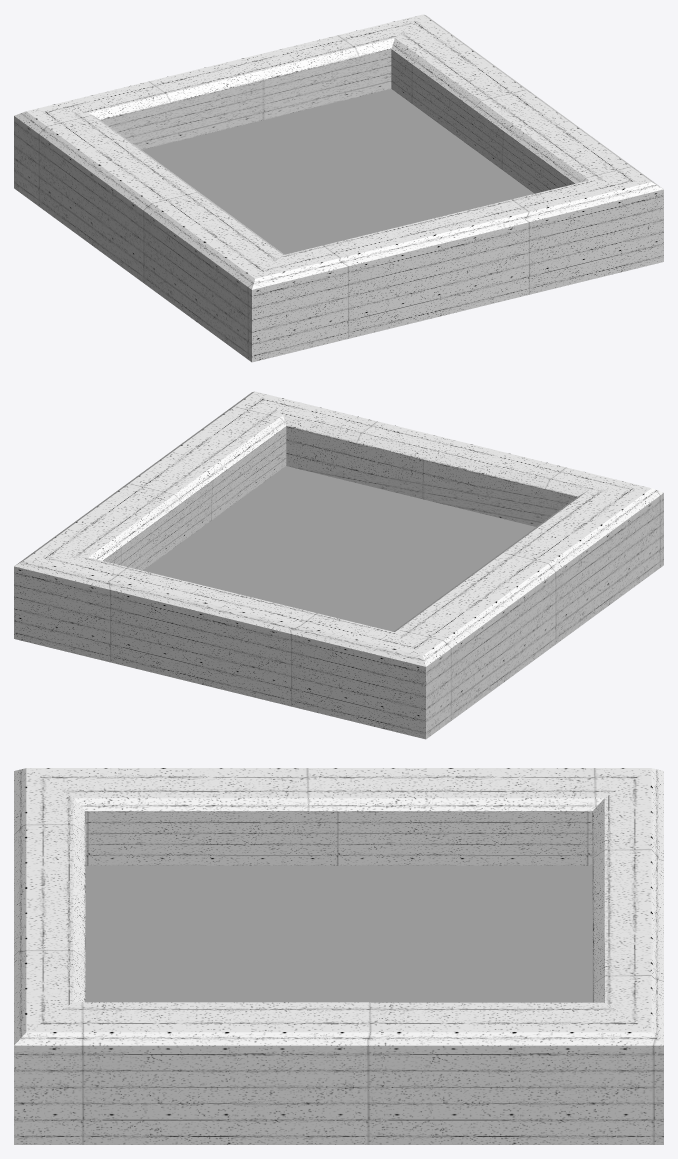
File: Square planter.fbx
The picture shows the model from 3 angles, top to bottom: view 1: azimuth 30°, elevation 25°; view 2: azimuth 150°, elevation 25°; view 3: azimuth 270°, elevation 25°; orthographic projection. The views are drawn at different scales.
Parts seen in each view (by area): view 1: square_planter; view 2: square_planter; view 3: square_planter.
Boxes of the visible parts, x1=… form: square_planter: x1=14, y1=14, x2=663, y2=362; square_planter: x1=14, y1=391, x2=663, y2=739; square_planter: x1=14, y1=768, x2=663, y2=1144.
Bounding box in the file's own units: 300 × 54.59 × 300.
